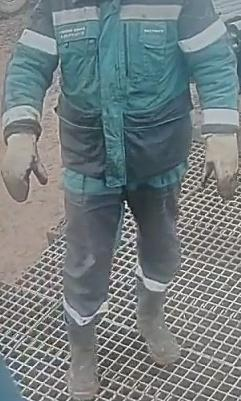gloves: (2, 118, 51, 204), (202, 132, 239, 199)
vest: (27, 0, 239, 190)
